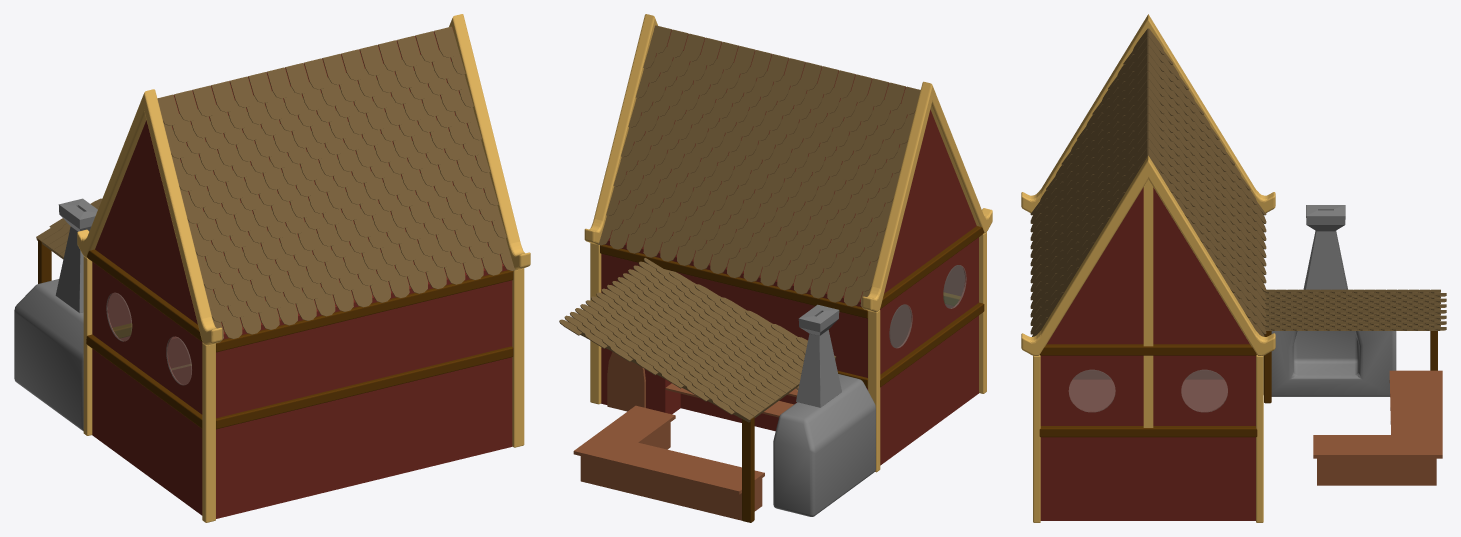
3 views of the same model, side by side, from view 1: azimuth 30°, elevation 25°; view 2: azimuth 150°, elevation 25°; view 3: azimuth 270°, elevation 25° (orthographic). The views are drawn at different scales.
Parts seen in each view (by area): view 1: House6; view 2: House6; view 3: House6.
Boxes of the visible parts, x1,y1,x2,y2 form: House6: (14,14,530,522); House6: (559,14,992,522); House6: (1021,14,1446,522).
Size of the model in its own units: 311 by 360 by 382.
